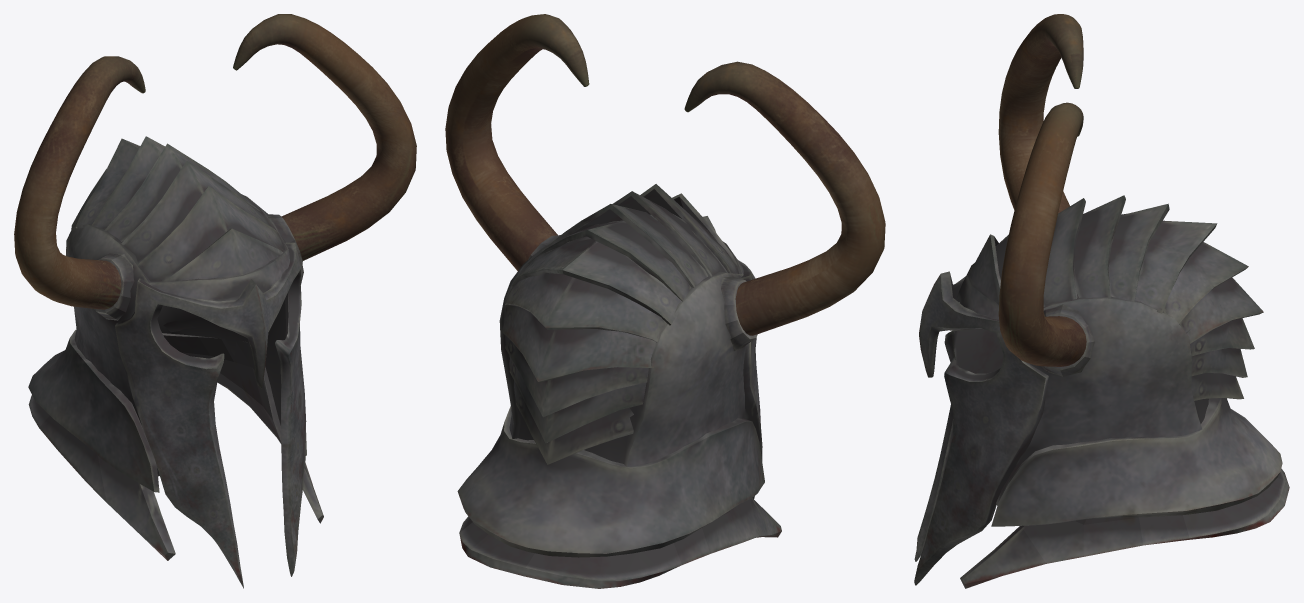
The model's file is toukui.glb.
The picture shows the model from 3 angles, left to right: view 1: azimuth 30°, elevation 25°; view 2: azimuth 150°, elevation 25°; view 3: azimuth 270°, elevation 25°; orthographic projection. The views are drawn at different scales.
Parts seen in each view (by area): view 1: Object_2; view 2: Object_2; view 3: Object_2.
Boxes of the visible parts, <box> form: Object_2: <box>14,14,416,588</box>; Object_2: <box>445,14,885,588</box>; Object_2: <box>914,14,1289,588</box>.
Size of the model in its own units: 10.96 by 13.05 by 8.67.
1 material, 1 textured.
